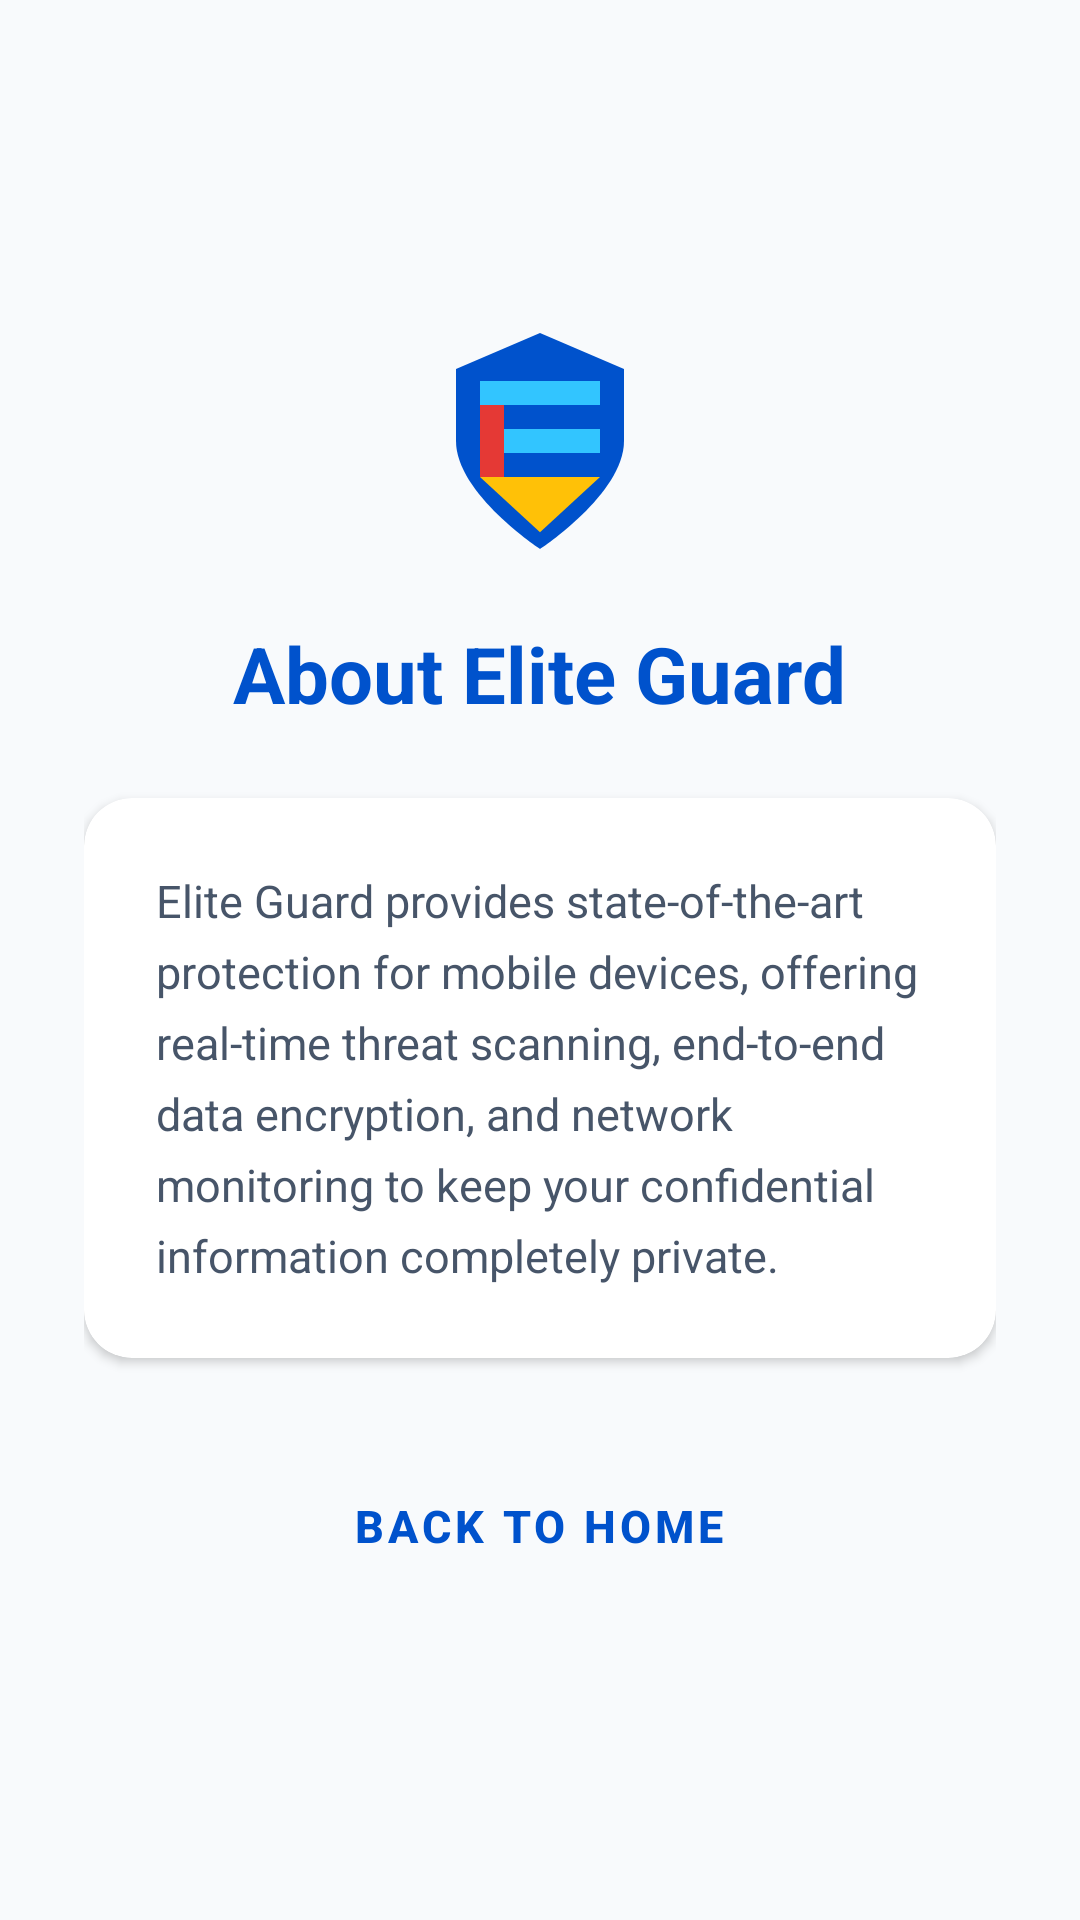

Named icons in this screenshot (1080px×1920px) and their centers, point (x, y):
custom shield: point (540, 441)
